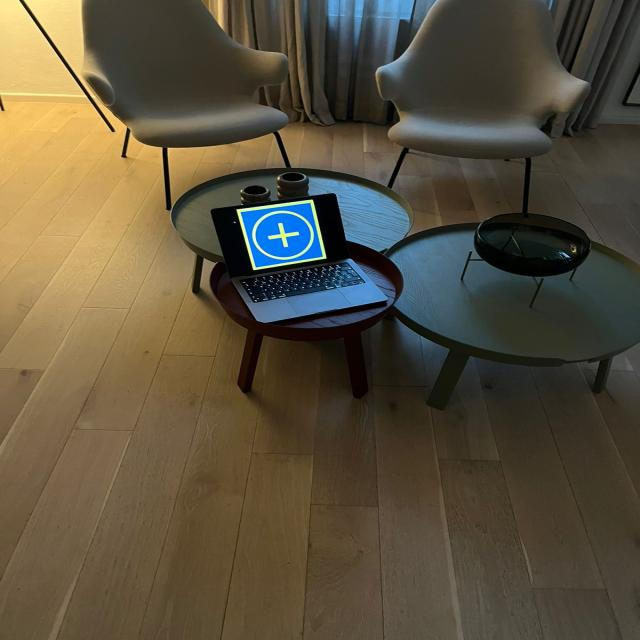Marker: (236, 200, 327, 270)
